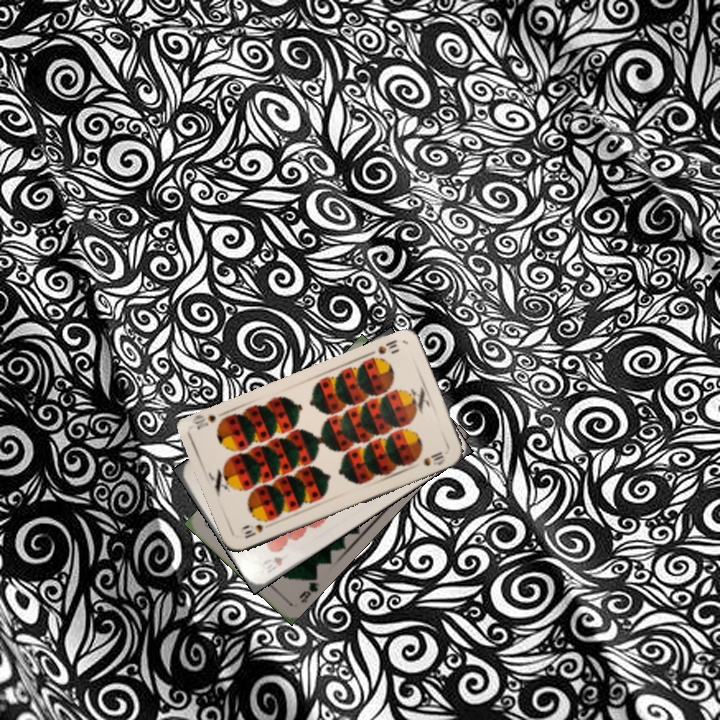G9: (295, 572, 322, 606)
H10: (257, 552, 286, 575)
S10: (374, 335, 400, 357), (241, 520, 266, 541)
